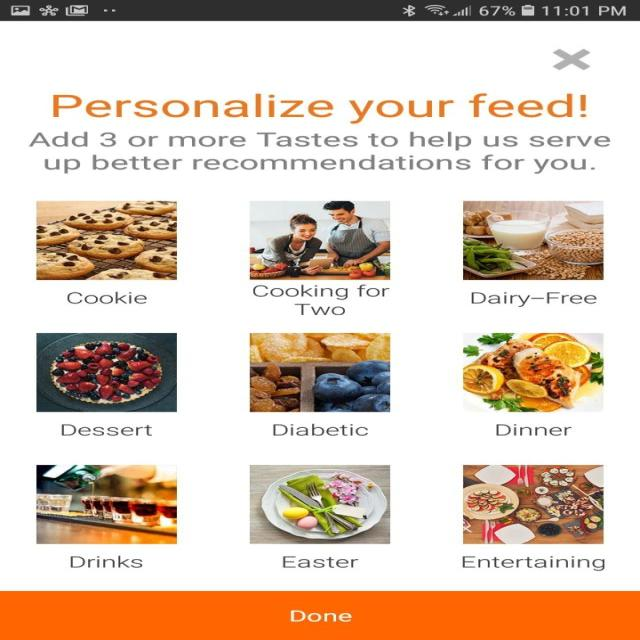Icon: (551, 48, 590, 70)
Image: (248, 464, 390, 544), (248, 332, 390, 412), (35, 200, 177, 280), (36, 464, 177, 544), (462, 464, 603, 544), (36, 332, 177, 412), (462, 332, 603, 412), (248, 201, 390, 280), (462, 201, 603, 280)
Text: (28, 131, 610, 174), (52, 93, 586, 124), (252, 284, 390, 315), (462, 555, 604, 571), (471, 291, 596, 307), (272, 423, 368, 436), (61, 424, 152, 436), (66, 291, 146, 304), (495, 423, 572, 436), (70, 555, 142, 568), (282, 556, 358, 568)
TextButton: (0, 590, 639, 640)
